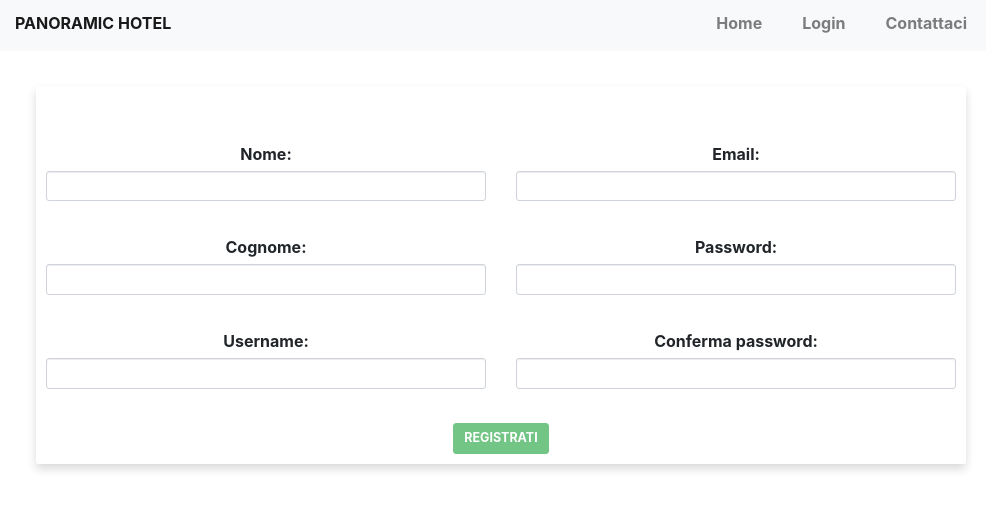
it: Registrati › registrazione con psw diverse
Step 1. Type "nome" into the field with id "nome" → (266, 187), box [46, 171, 486, 202]
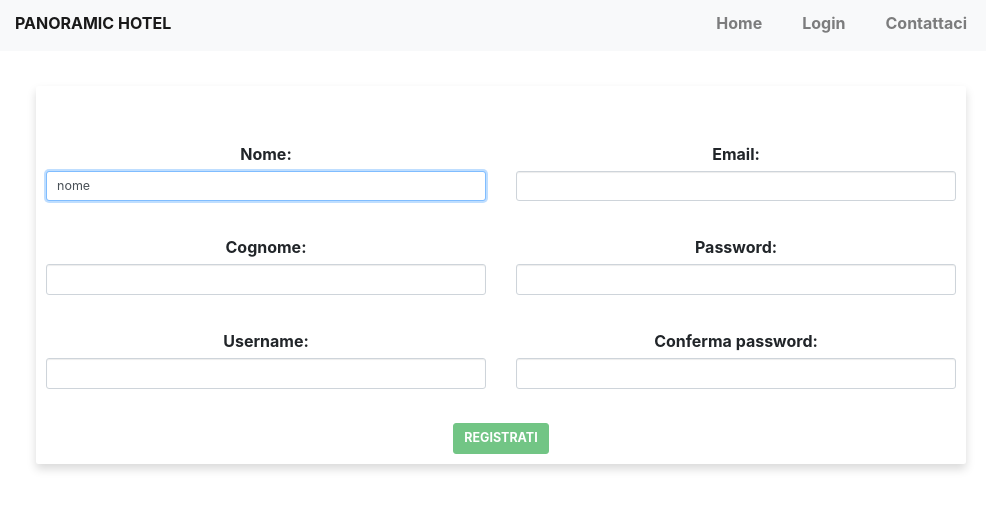
Step 2. Type "cognome" into the field with id "cognome" → (266, 280), box [46, 264, 486, 295]
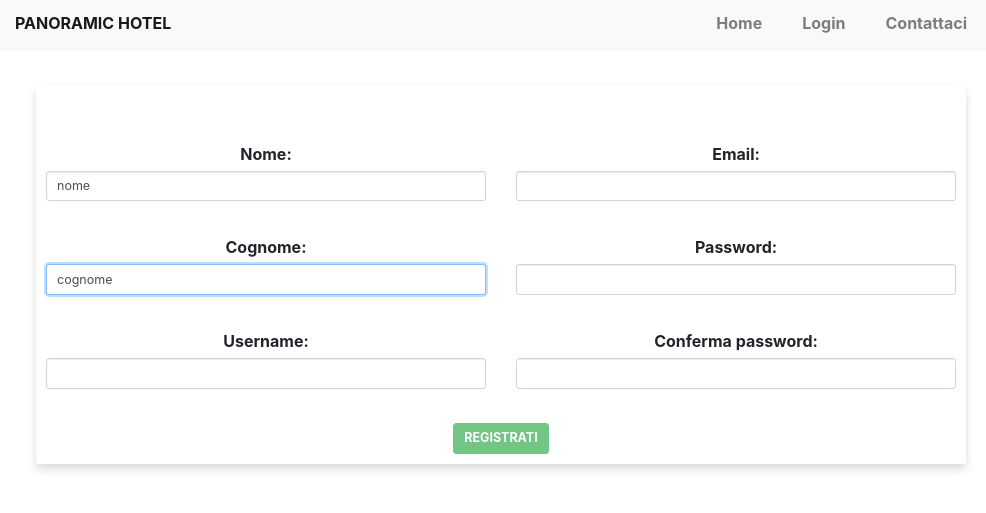
Step 3. Type "prova3" into the field with id "user" → (266, 374), box [46, 358, 486, 389]
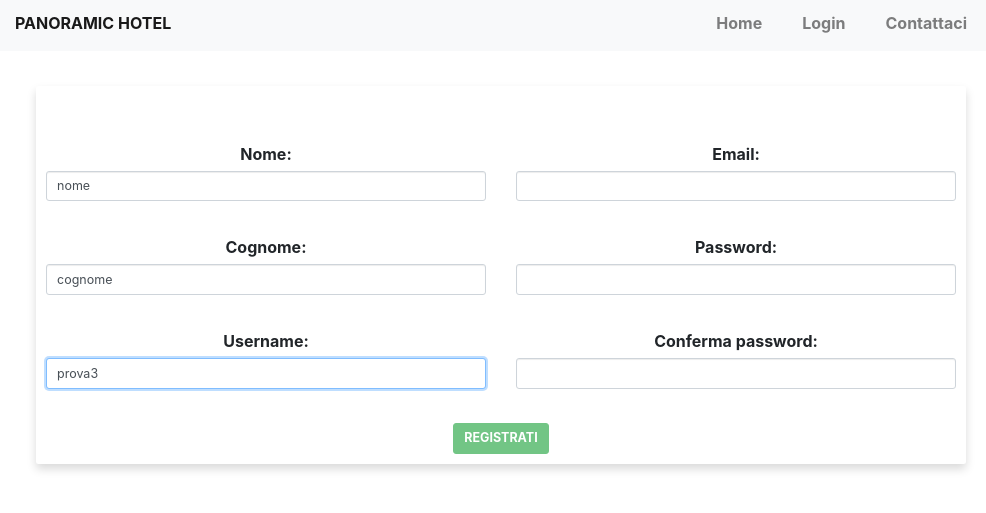
Step 4. Type "email@email.it" into the field with id "email" → (736, 187), box [516, 171, 956, 202]
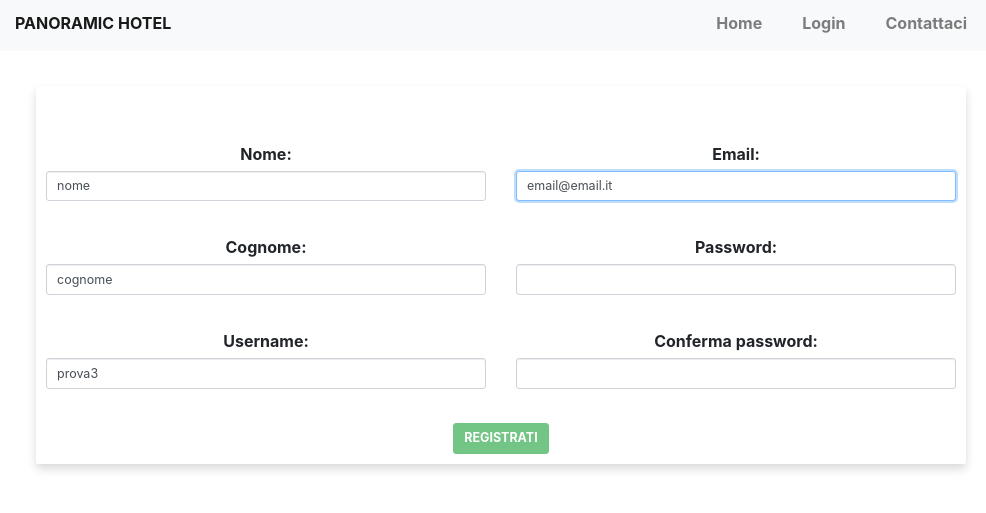
Step 5. Type "psw" into the 1st password field → (736, 280), box [516, 264, 956, 295]
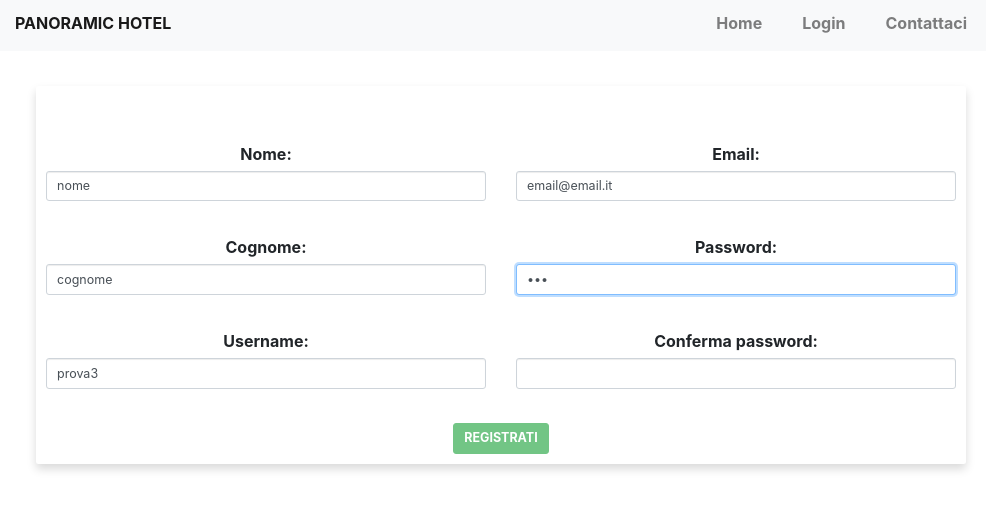
Step 6. Type "psw2" into the password field with id "conferma" → (736, 374), box [516, 358, 956, 389]
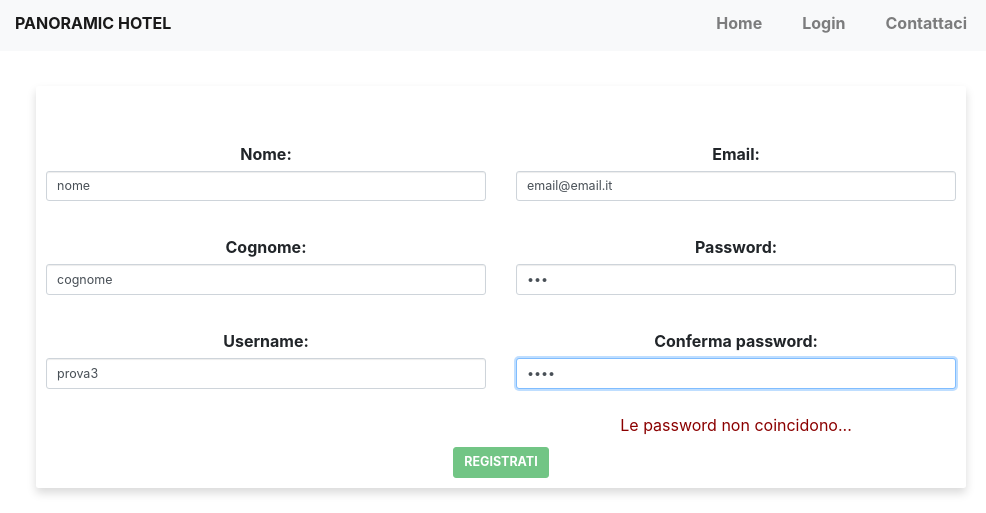
Expected: the button with id "button3" is disabled, [453, 447, 548, 478]
Expected: the text "Le password non coincidono..." is shown, [620, 415, 852, 435]
